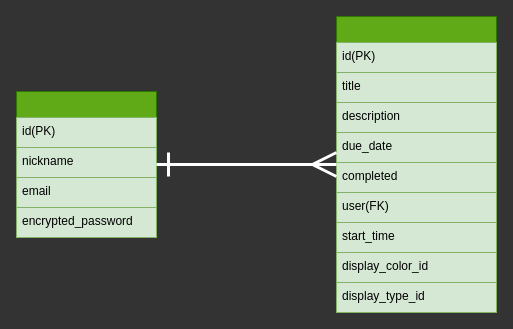
The diagram is 513 pixels wide and 329 high, and some of its shapes have lost their labels. The shapes that lost their labels are listed below. From the top down, each one's box as (x1, y1, x2, y2) in pixels, then its label:
(16, 90, 156, 238): user
(336, 16, 496, 312): task
